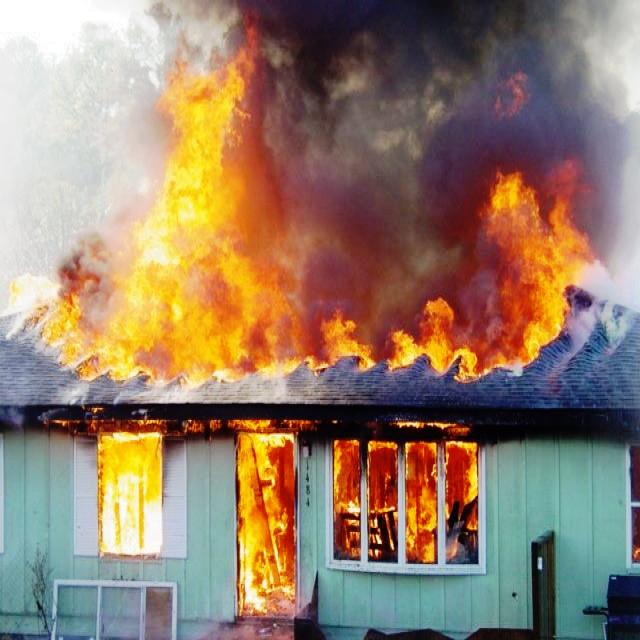api: (29, 10, 299, 384), (307, 158, 607, 378), (333, 419, 486, 570), (234, 412, 301, 623), (92, 420, 166, 559)
asap: (216, 1, 638, 376)
